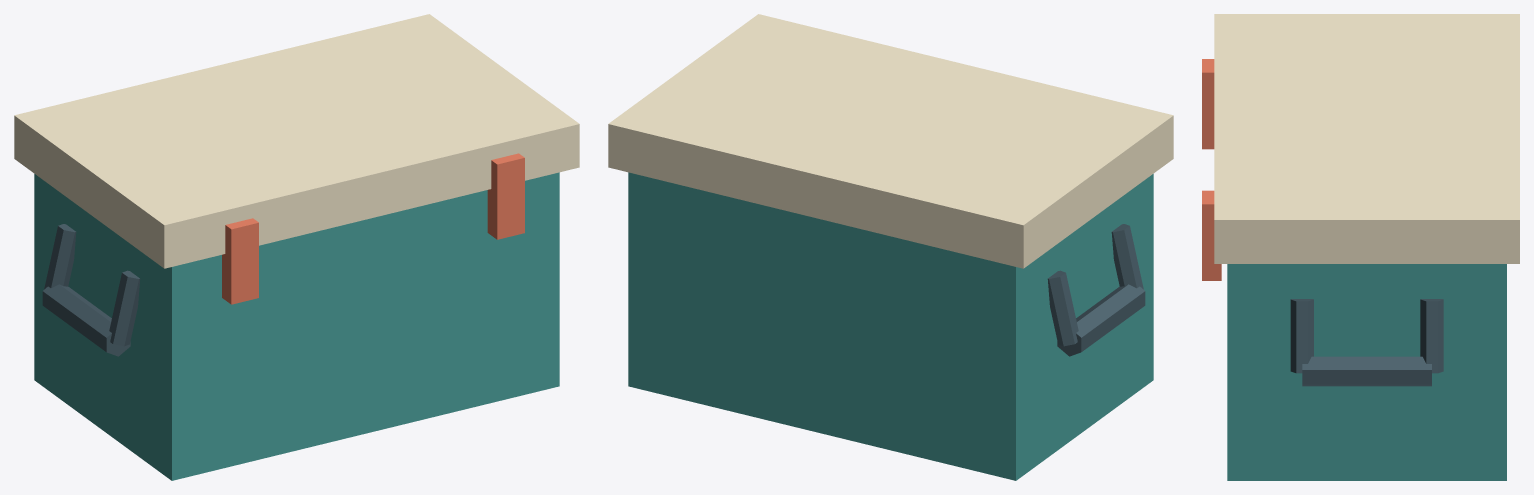
File: catch_cooler_quiet_lake_fishing_22407.glb
3 renders of one model, left to right at view 1: azimuth 30°, elevation 25°; view 2: azimuth 150°, elevation 25°; view 3: azimuth 270°, elevation 25°, orthographic.
Parts seen in each view (by area): view 1: teal, cream, coral, iron; view 2: teal, cream, iron; view 3: cream, teal, iron, coral.
Part boxes in pixels (x1,y1,x2,y2): teal: (34, 172, 559, 480); cream: (14, 14, 579, 268); coral: (222, 153, 524, 304); iron: (42, 224, 140, 356); teal: (628, 172, 1153, 480); cream: (608, 14, 1173, 268); iron: (1047, 224, 1145, 356); cream: (1214, 14, 1519, 263); teal: (1227, 264, 1506, 480); iron: (1290, 299, 1443, 386); coral: (1202, 59, 1221, 280).
Bounding box in the file's own units: 0.8033 × 0.455 × 0.489.
